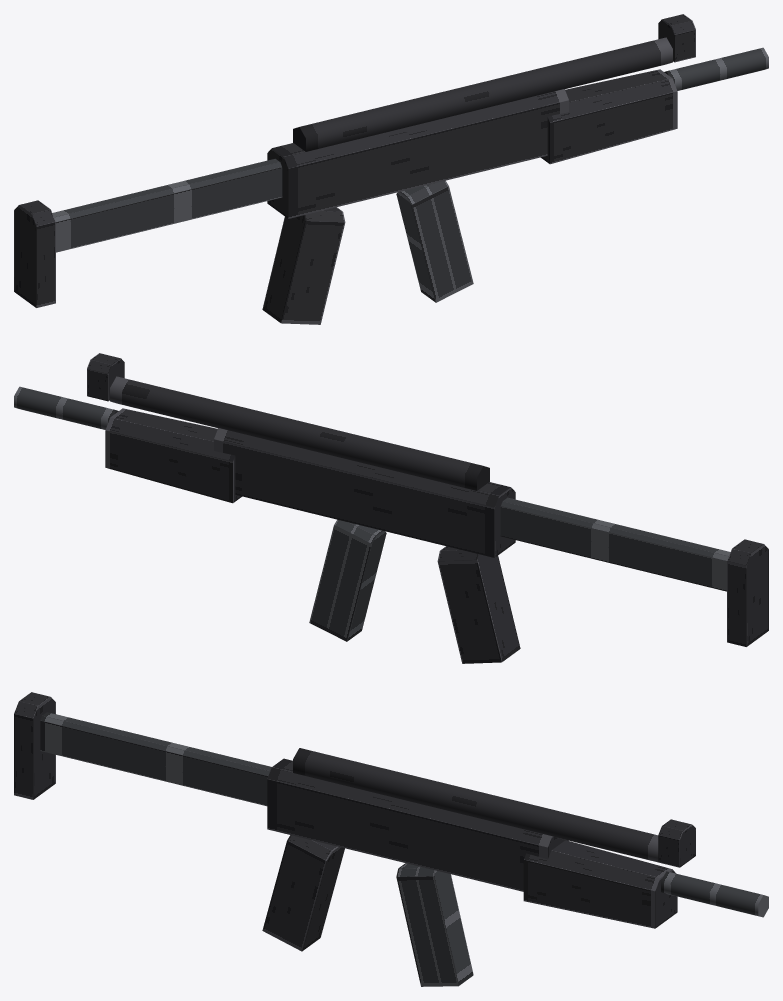
3 renders of one model, top to bottom at view 1: azimuth 30°, elevation 25°; view 2: azimuth 150°, elevation 25°; view 3: azimuth 330°, elevation 25°, orthographic.
Visible parts, largest first — view 1: MP5; view 2: MP5; view 3: MP5.
Boxes of the visible parts, left/top/right/bottom form: MP5: left=14, top=14, right=768, bottom=324; MP5: left=14, top=353, right=768, bottom=663; MP5: left=14, top=692, right=768, bottom=986.
Size of the model in its own units: 0.684 by 0.1919 by 0.042.
1 material, 1 textured.
